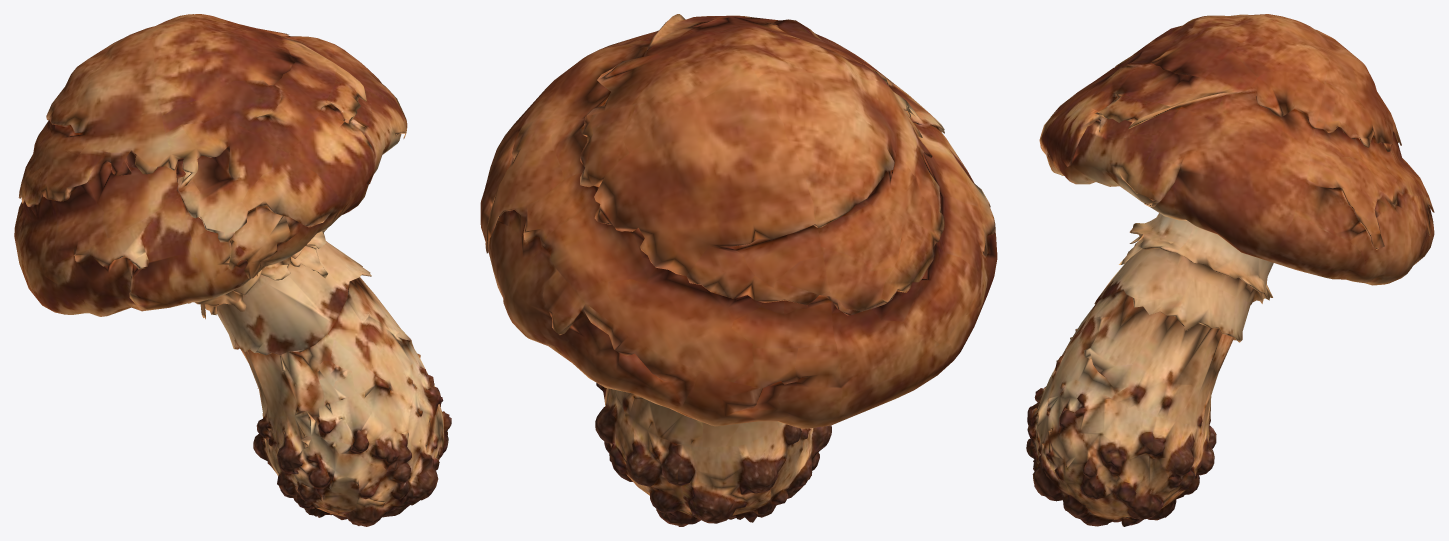
File: matsutake.glb
The picture shows the model from 3 angles, left to right: view 1: azimuth 30°, elevation 25°; view 2: azimuth 150°, elevation 25°; view 3: azimuth 270°, elevation 25°; orthographic projection. The views are drawn at different scales.
Parts seen in each view (by area): view 1: tripo_node_c51f38f1-0b6f-4037-abfb-d1435a11e6c8; view 2: tripo_node_c51f38f1-0b6f-4037-abfb-d1435a11e6c8; view 3: tripo_node_c51f38f1-0b6f-4037-abfb-d1435a11e6c8.
Boxes of the visible parts, bbox=[...] form: tripo_node_c51f38f1-0b6f-4037-abfb-d1435a11e6c8: bbox=[14, 14, 451, 526]; tripo_node_c51f38f1-0b6f-4037-abfb-d1435a11e6c8: bbox=[480, 14, 997, 526]; tripo_node_c51f38f1-0b6f-4037-abfb-d1435a11e6c8: bbox=[1026, 14, 1434, 526].
Bounding box in the file's own units: 0.797 × 0.979 × 0.805.
Materials: 1 (1 with a texture image).
